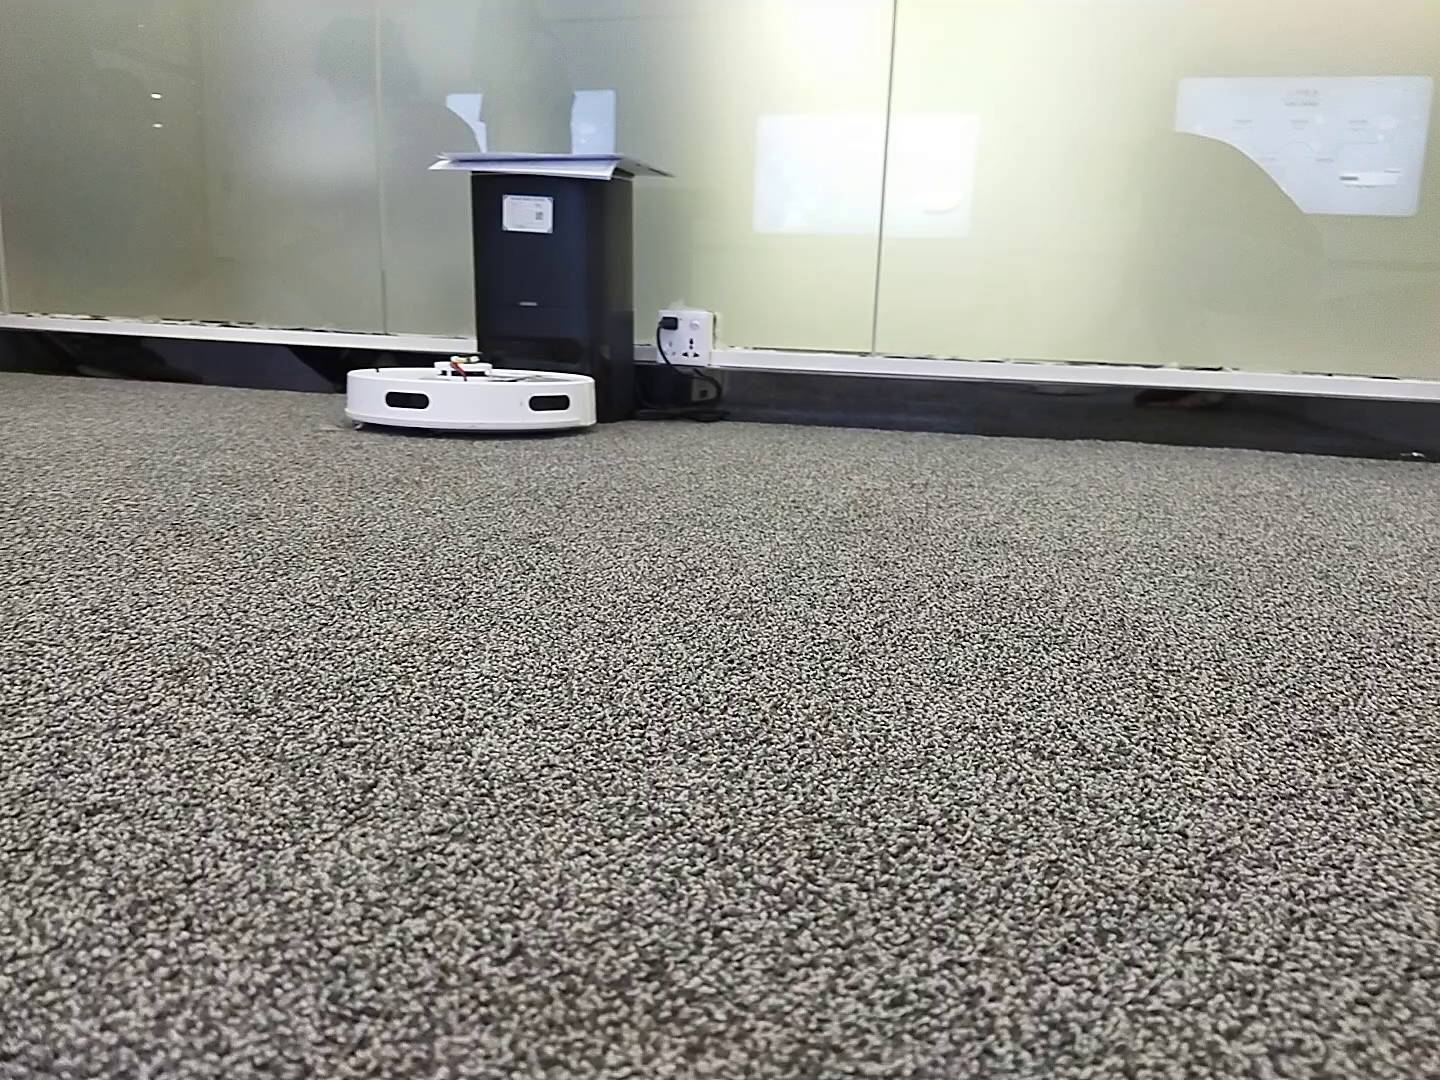dust collecting barrel: (471, 159, 635, 427)
